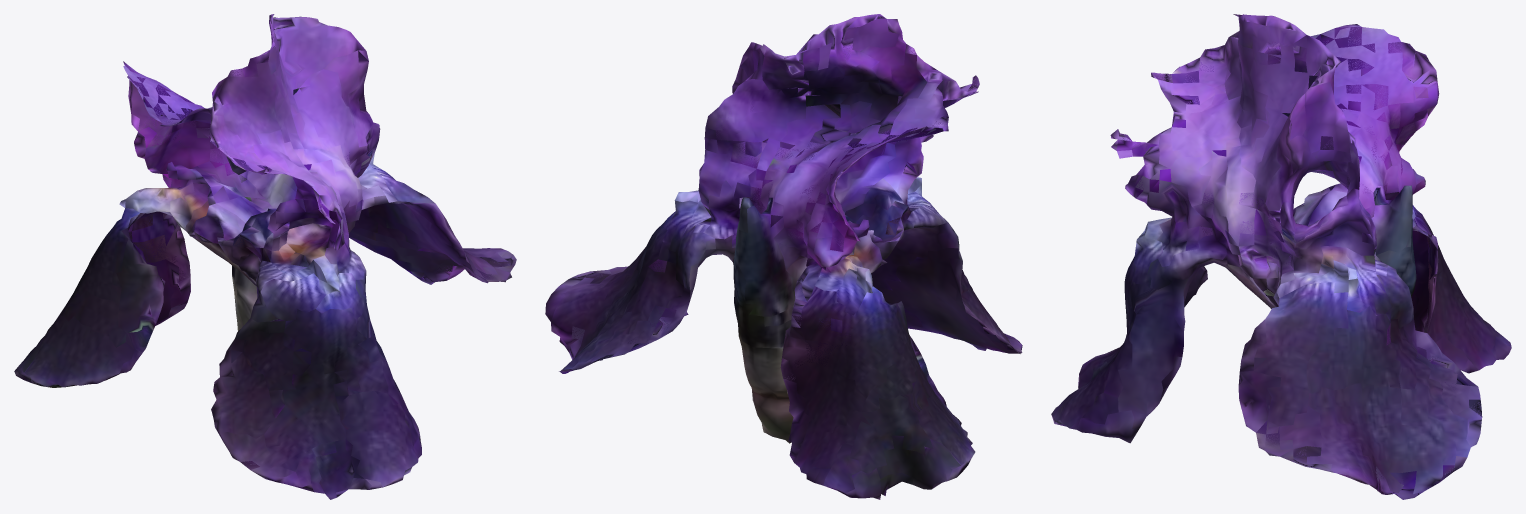
3 renders of one model, left to right at view 1: azimuth 30°, elevation 25°; view 2: azimuth 150°, elevation 25°; view 3: azimuth 270°, elevation 25°, orthographic. The views are drawn at different scales.
Visible parts, largest first — view 1: 596a5e25; view 2: 596a5e25; view 3: 596a5e25.
Boxes of the visible parts, bbox=[...] form: 596a5e25: bbox=[14, 14, 516, 499]; 596a5e25: bbox=[545, 14, 1022, 499]; 596a5e25: bbox=[1051, 14, 1511, 499].
Bounding box in the file's own units: 0.1115 × 0.0972 × 0.0969.
Materials: 1 (1 with a texture image).
